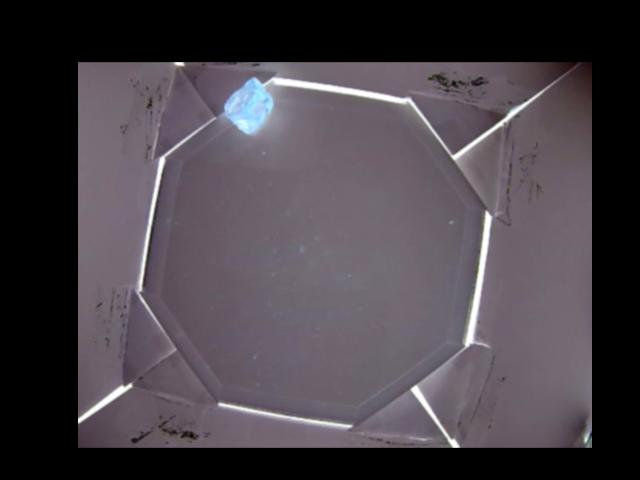Brisk: (222, 76, 274, 133)
